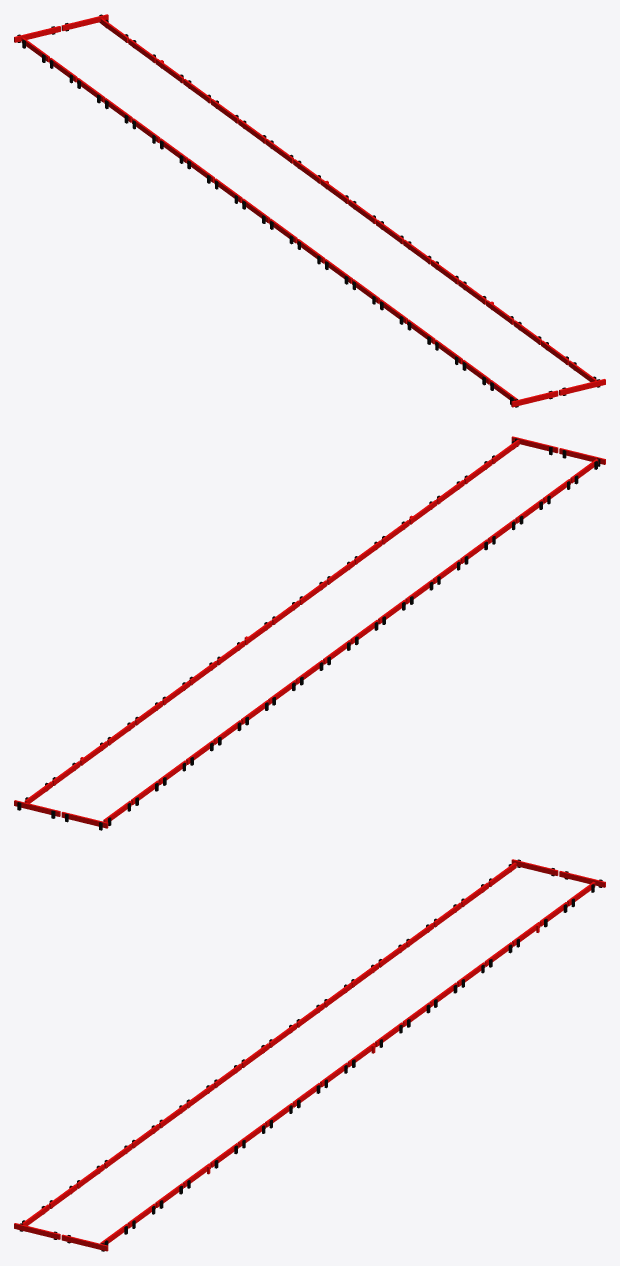
File: HSBC Entorno_10_CAPAS_BOLICHE.fbx
The picture shows the model from 3 angles, top to bottom: view 1: azimuth 30°, elevation 25°; view 2: azimuth 150°, elevation 25°; view 3: azimuth 330°, elevation 25°; orthographic projection.
Bounding box in the file's own units: 302 × 22.32 × 2784.
